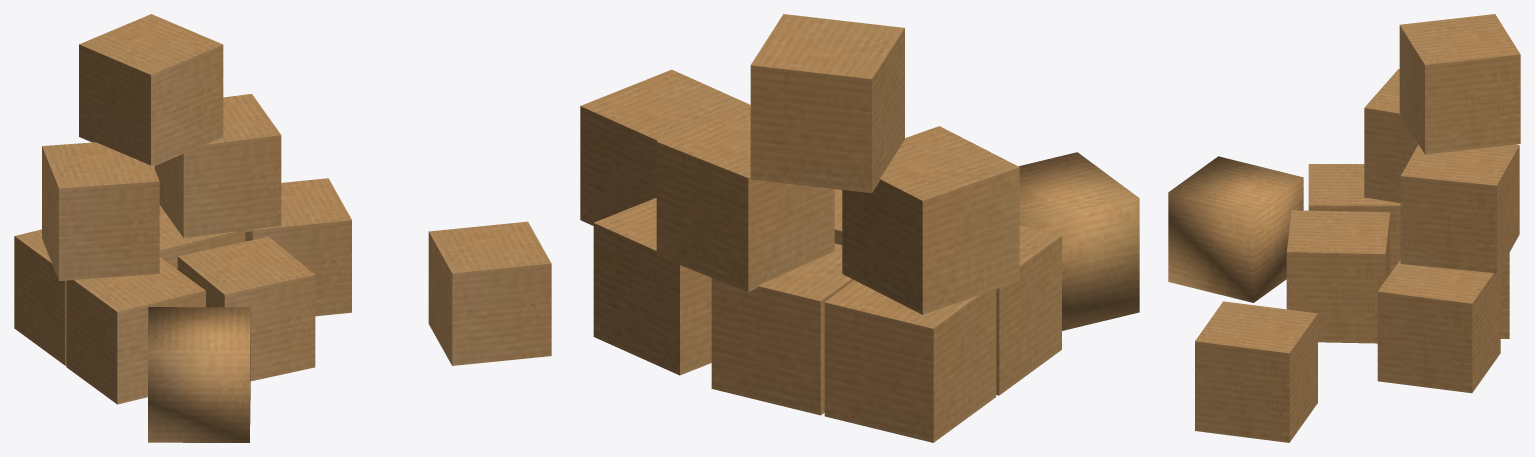
File: Boxse.fbx
The picture shows the model from 3 angles, left to right: view 1: azimuth 30°, elevation 25°; view 2: azimuth 150°, elevation 25°; view 3: azimuth 270°, elevation 25°; orthographic projection. The views are drawn at different scales.
Visible parts, largest first — view 1: Cube.001; view 2: Cube.001; view 3: Cube.001.
Boxes of the visible parts, box(x1,y1,x2,y2) form: Cube.001: box(14, 14, 551, 442); Cube.001: box(580, 14, 1139, 442); Cube.001: box(1168, 14, 1520, 442).
Bounding box in the file's own units: 1521 × 960 × 1148.
Materials: 1 (1 with a texture image).
